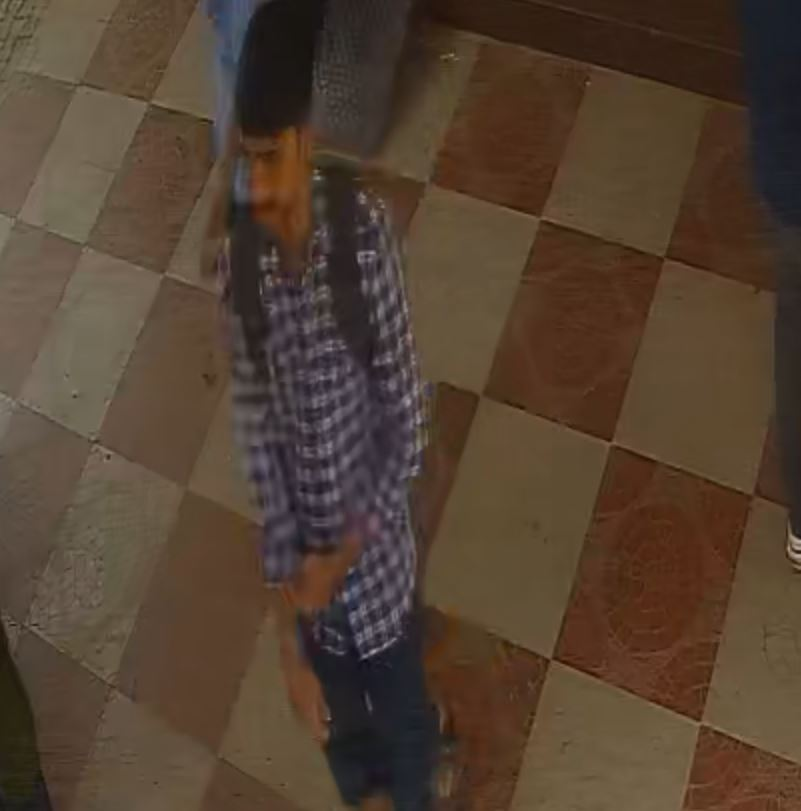intruder: (191, 5, 469, 811)
